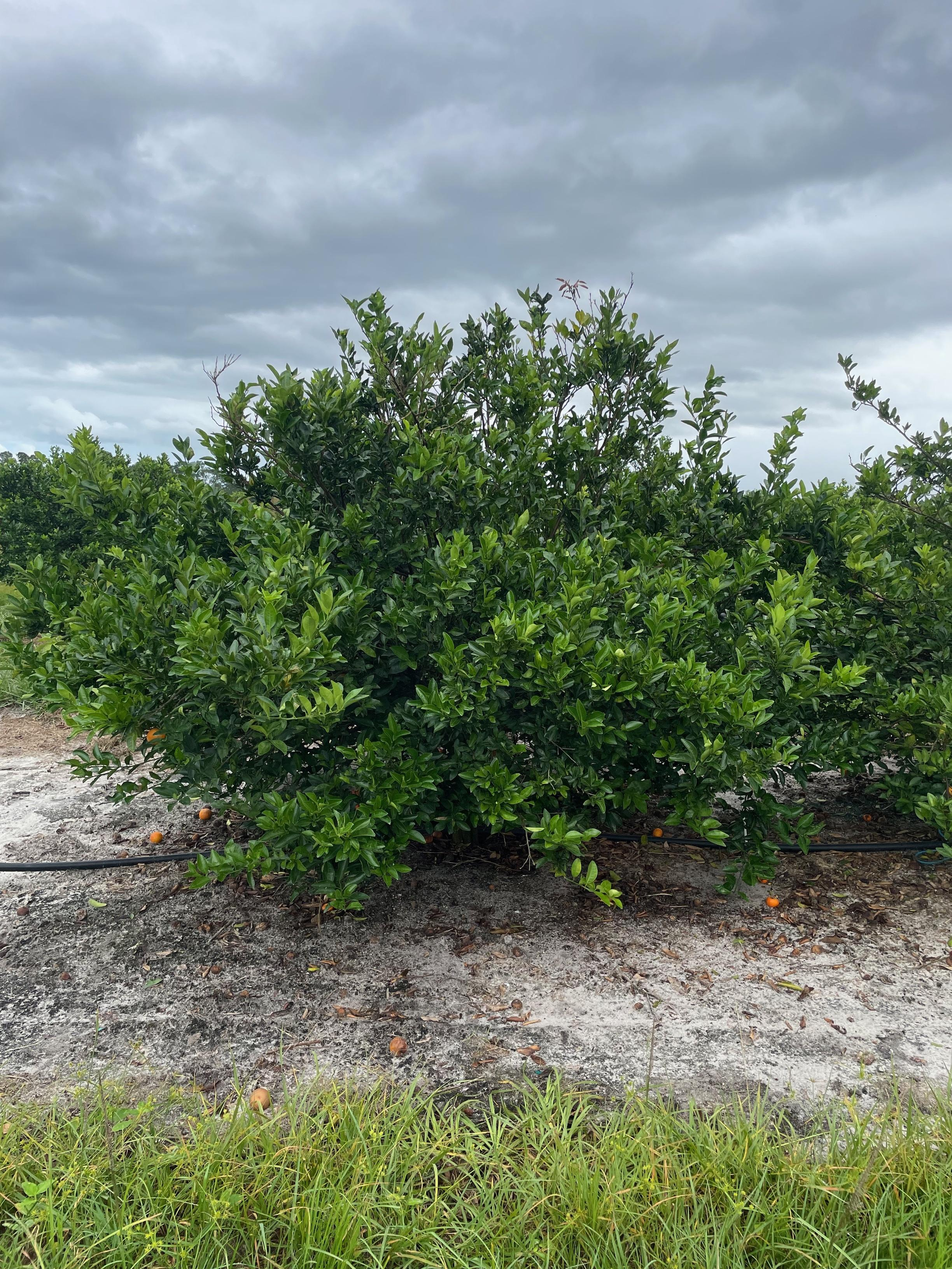fruit_on_ground: (145, 725, 168, 747)
fruit_on_tree: (248, 1085, 273, 1112), (388, 1035, 411, 1058), (147, 829, 164, 846), (764, 893, 782, 909), (197, 806, 214, 822), (15, 903, 31, 917), (650, 825, 665, 838), (115, 849, 131, 861), (430, 828, 444, 840), (189, 832, 201, 842)
